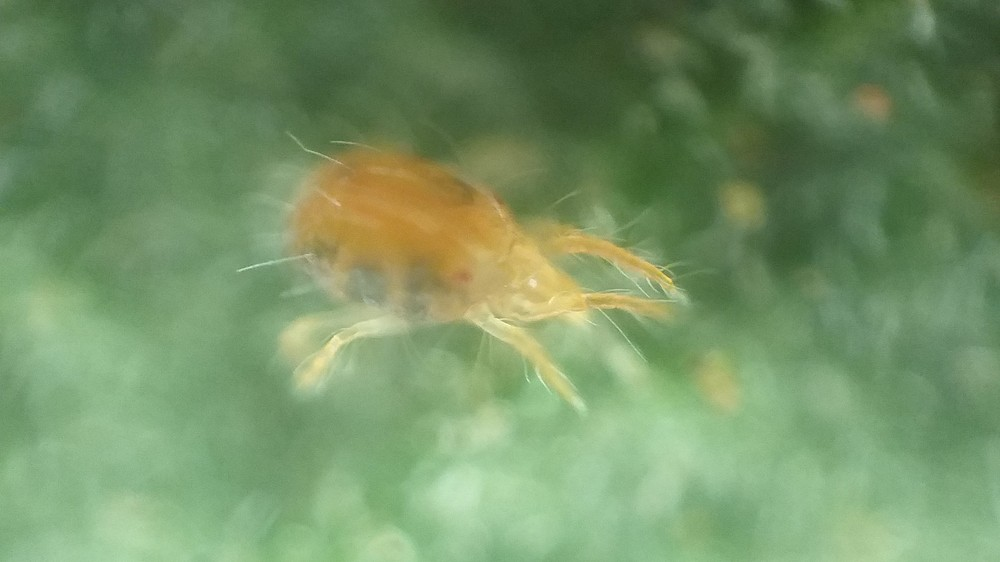Aracnido Rojo: (215, 104, 712, 434)
